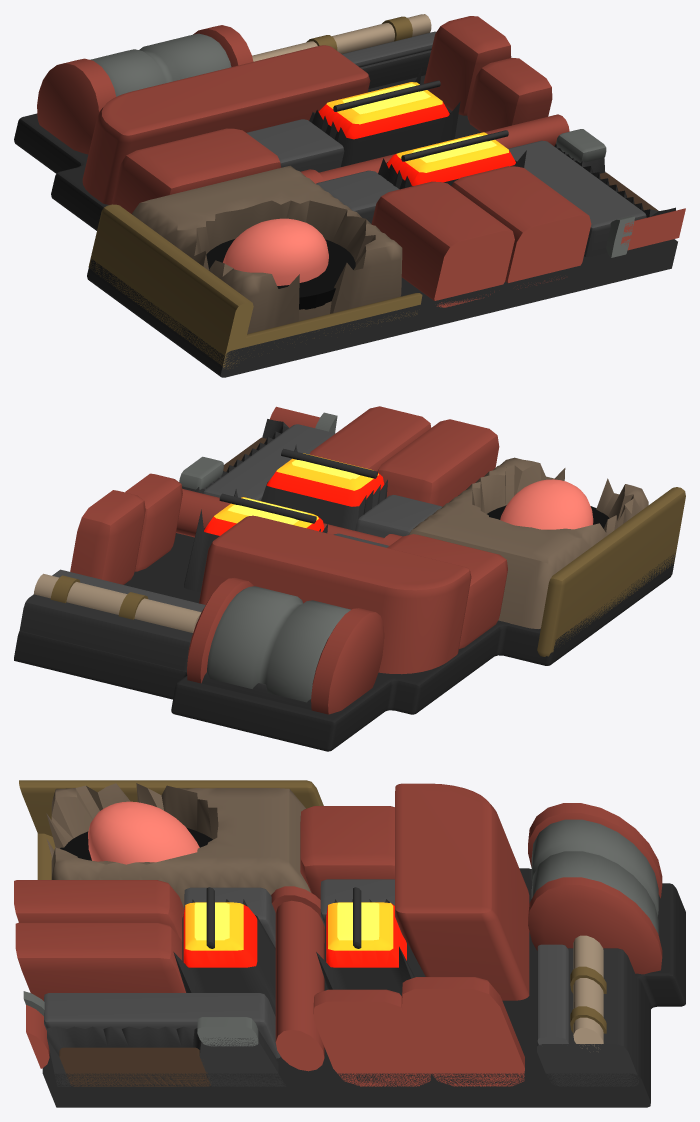
File: red_works_tl.glb
The picture shows the model from 3 angles, top to bottom: view 1: azimuth 30°, elevation 25°; view 2: azimuth 150°, elevation 25°; view 3: azimuth 270°, elevation 25°; orthographic projection. The views are drawn at different scales.
Parts seen in each view (by area): view 1: red_works_tl; view 2: red_works_tl; view 3: red_works_tl.
Boxes of the visible parts, left/top/right/bottom form: red_works_tl: left=14, top=14, right=685, bottom=377; red_works_tl: left=14, top=406, right=685, bottom=751; red_works_tl: left=14, top=780, right=685, bottom=1107.
Bounding box in the file's own units: 24 × 5.8 × 28.72.
